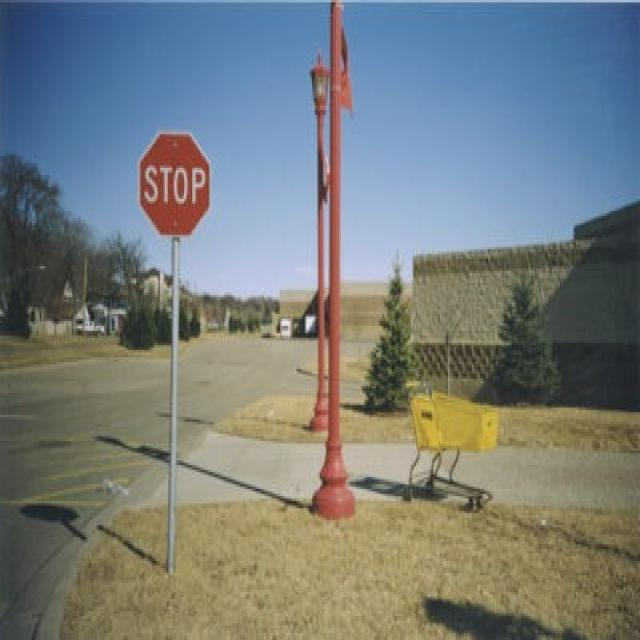Vehicle: (71, 300, 109, 336)
